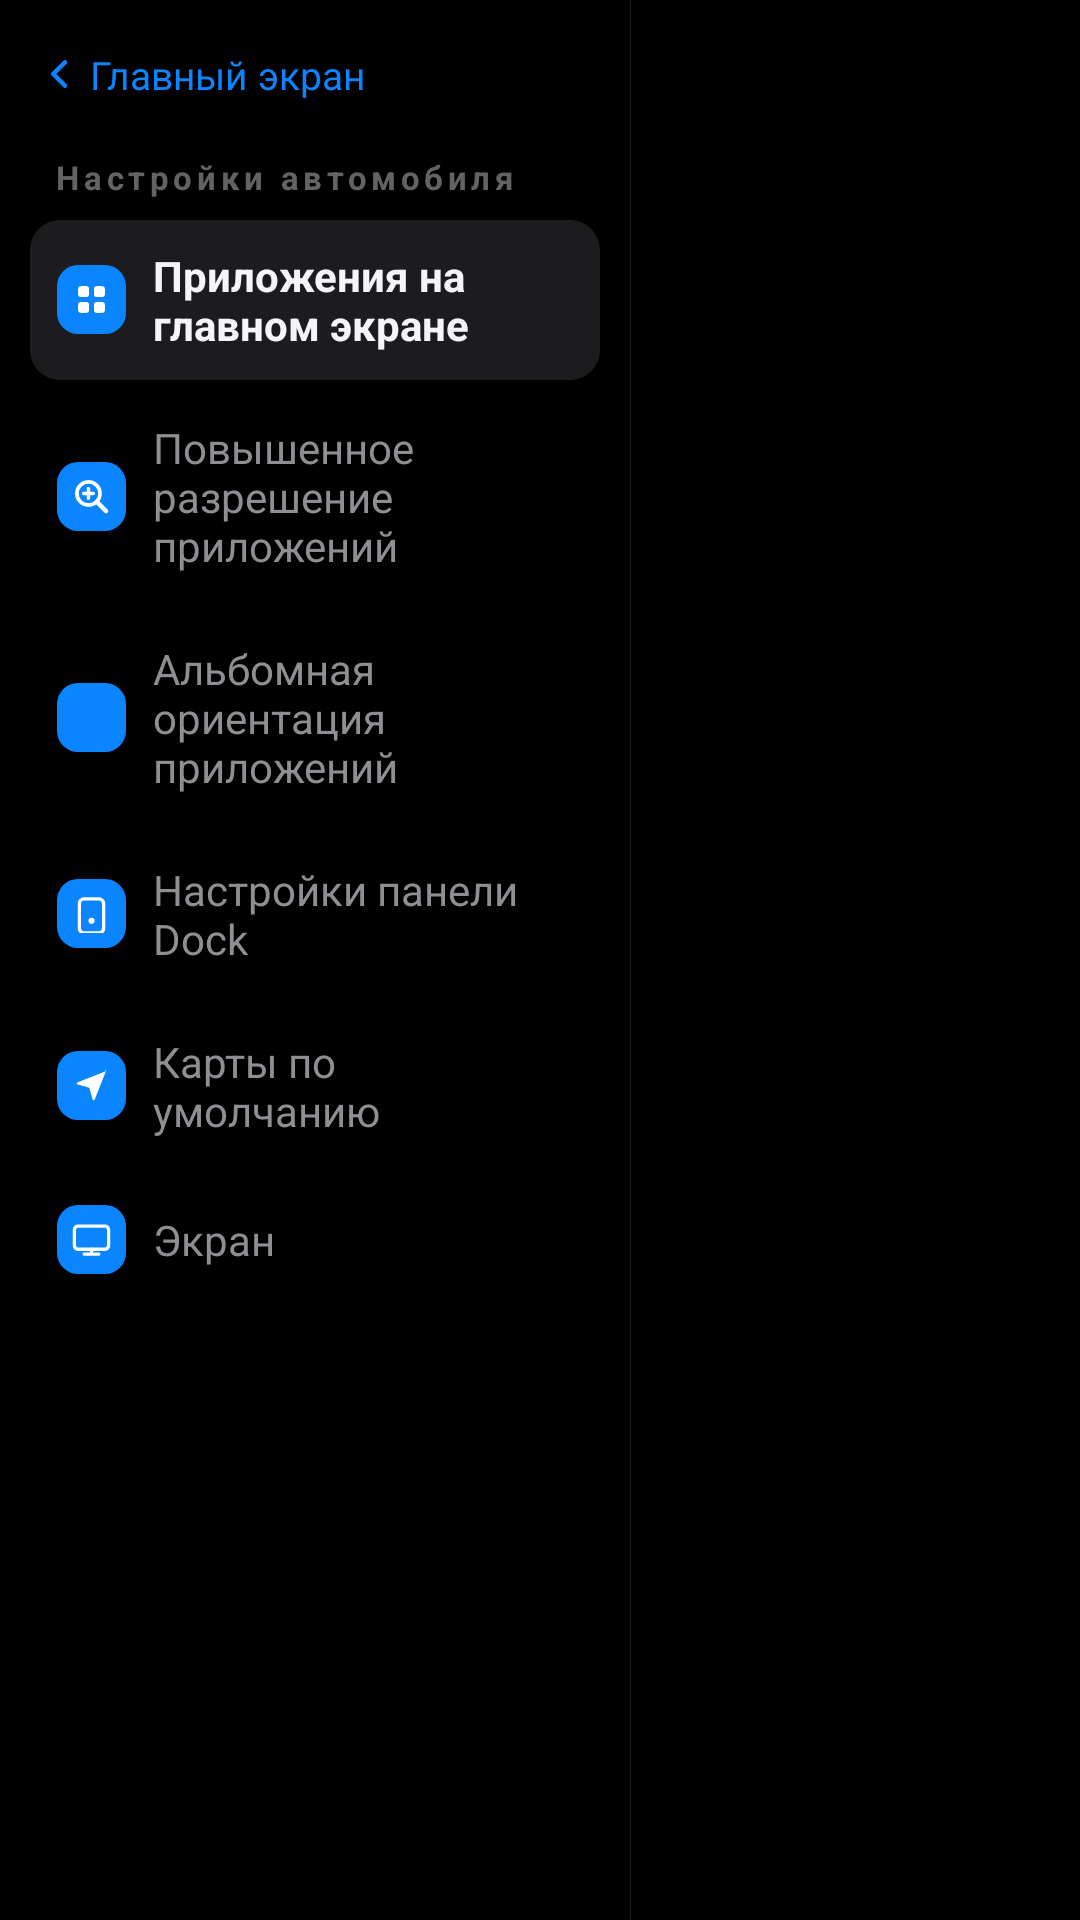

Named icons in this screenshot (1080px×1920px) and their bounding boxes, box(x1, y1, x2, y2):
display: box(57, 1205, 126, 1274)
grid: box(57, 265, 126, 334)
map: box(57, 1051, 126, 1120)
zoom: box(57, 462, 126, 531)
